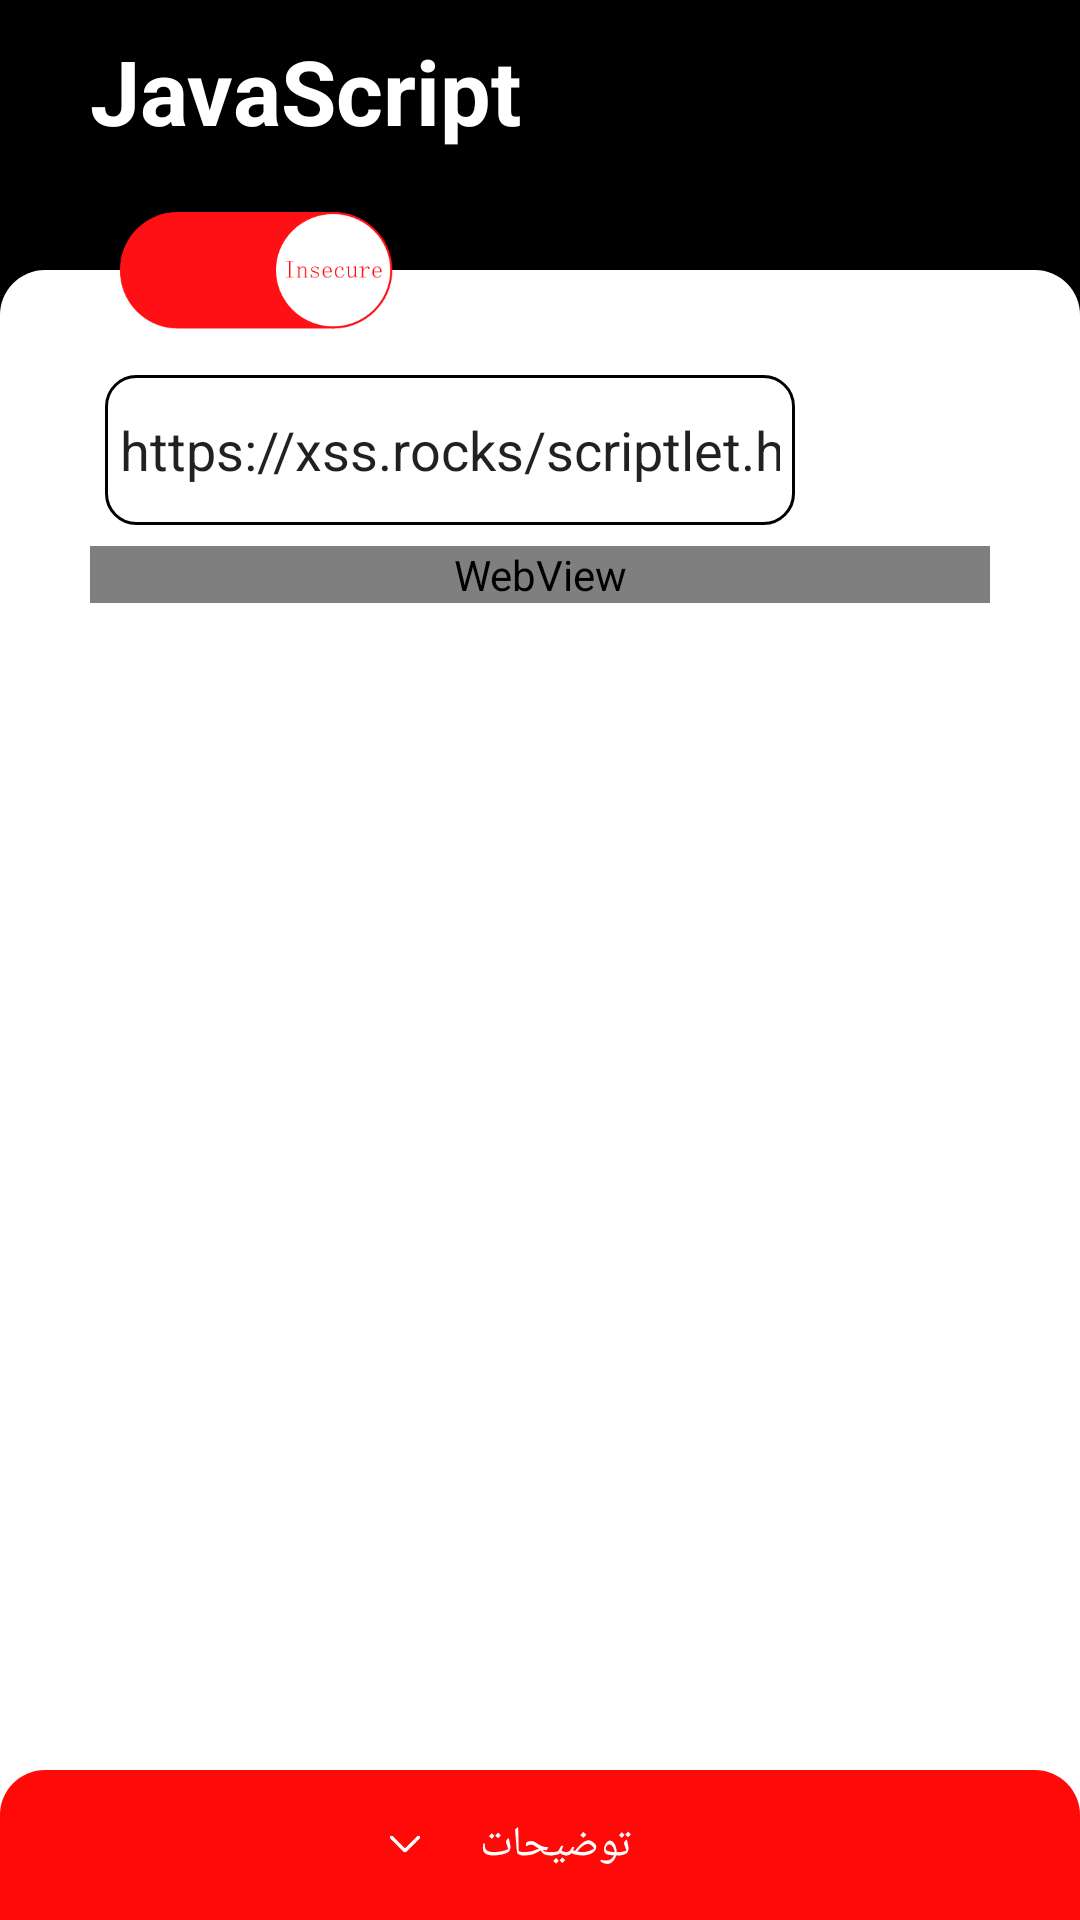

Point at icon controls on the screen. Image size 1080px×1920px, points as (x=x, y=y).
toggle switch: (x=256, y=270)
